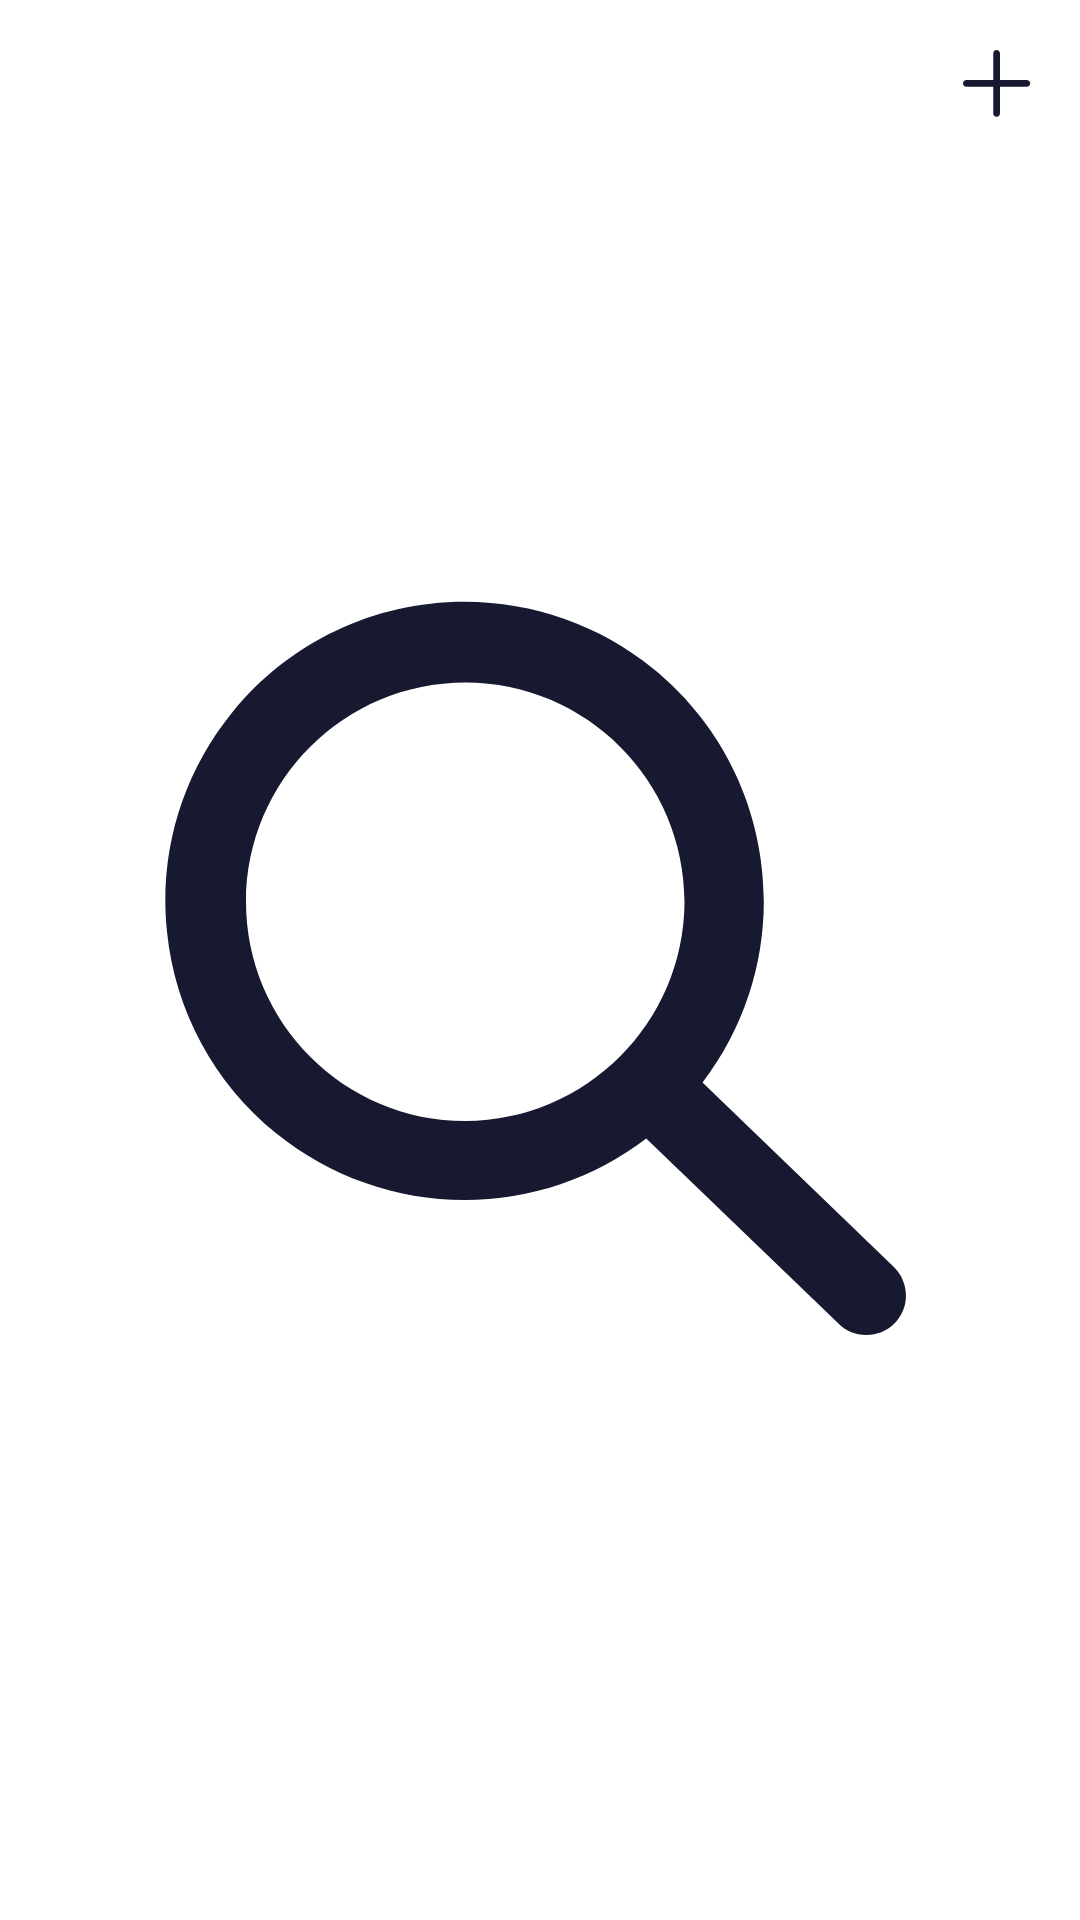

Where icons sit on this 1080 × 1920 app screen, as bbox=[x1, y1, x2, y2]:
plus: bbox=[963, 50, 1031, 117]
